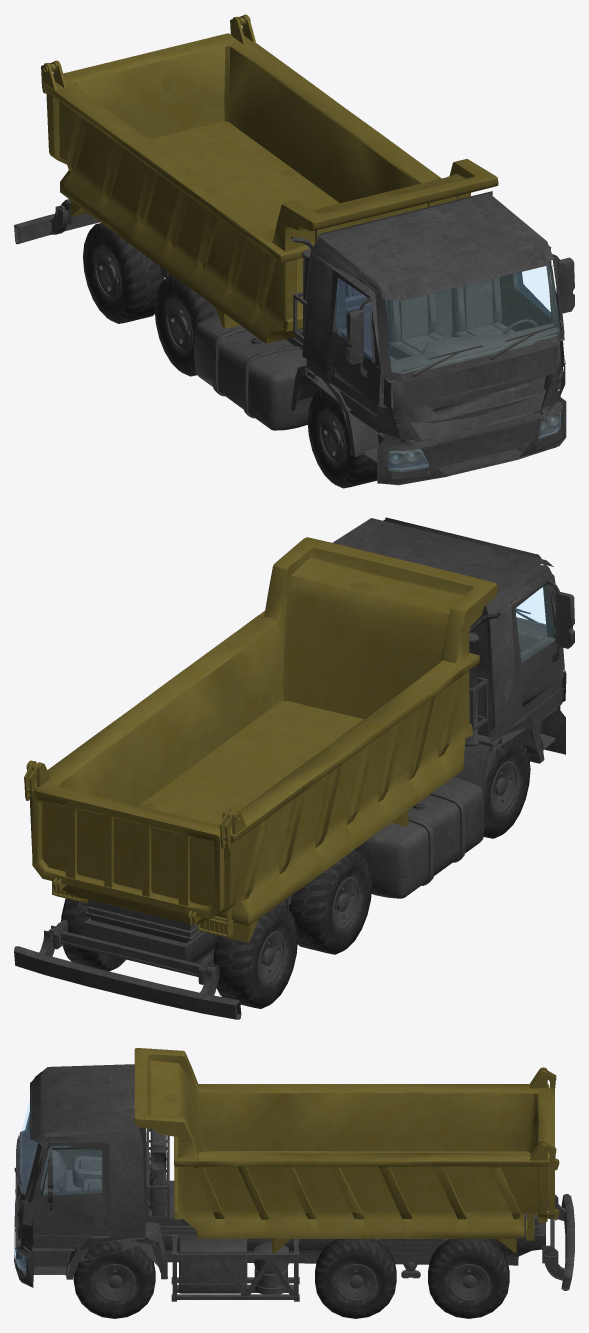
The model's file is trucks.glb.
The picture shows the model from 3 angles, top to bottom: view 1: azimuth 30°, elevation 25°; view 2: azimuth 150°, elevation 25°; view 3: azimuth 270°, elevation 25°; orthographic projection. The views are drawn at different scales.
Visible parts, largest first — view 1: dump_truck_01, dump_truck_01_M_dump_truck_E_01_0.005, dump_truck_01_M_dump_truck_E_01_0.006, dump_truck_01_M_dump_truck_E_01_0.004; view 2: dump_truck_01, dump_truck_01_M_dump_truck_E_01_0.005, dump_truck_01_M_dump_truck_E_01_0.004, dump_truck_01_M_dump_truck_E_01_0.006; view 3: dump_truck_01, dump_truck_01_M_dump_truck_E_01_0.001, dump_truck_01_M_dump_truck_E_01_0.002, dump_truck_01_M_dump_truck_E_01_0.003.
Part boxes in pixels (bbox=[...]): dump_truck_01: bbox=[14, 14, 574, 486]; dump_truck_01_M_dump_truck_E_01_0.005: bbox=[83, 223, 136, 323]; dump_truck_01_M_dump_truck_E_01_0.006: bbox=[307, 388, 361, 488]; dump_truck_01_M_dump_truck_E_01_0.004: bbox=[154, 275, 204, 376]; dump_truck_01: bbox=[14, 517, 574, 1019]; dump_truck_01_M_dump_truck_E_01_0.005: bbox=[242, 904, 297, 1008]; dump_truck_01_M_dump_truck_E_01_0.004: bbox=[316, 850, 372, 954]; dump_truck_01_M_dump_truck_E_01_0.006: bbox=[483, 735, 530, 838]; dump_truck_01: bbox=[14, 1048, 574, 1301]; dump_truck_01_M_dump_truck_E_01_0.001: bbox=[315, 1245, 396, 1318]; dump_truck_01_M_dump_truck_E_01_0.002: bbox=[428, 1245, 509, 1318]; dump_truck_01_M_dump_truck_E_01_0.003: bbox=[74, 1245, 155, 1318].
Size of the model in its own units: 2.93 by 3.1 by 7.85.
Materials: 6 (5 with a texture image).
